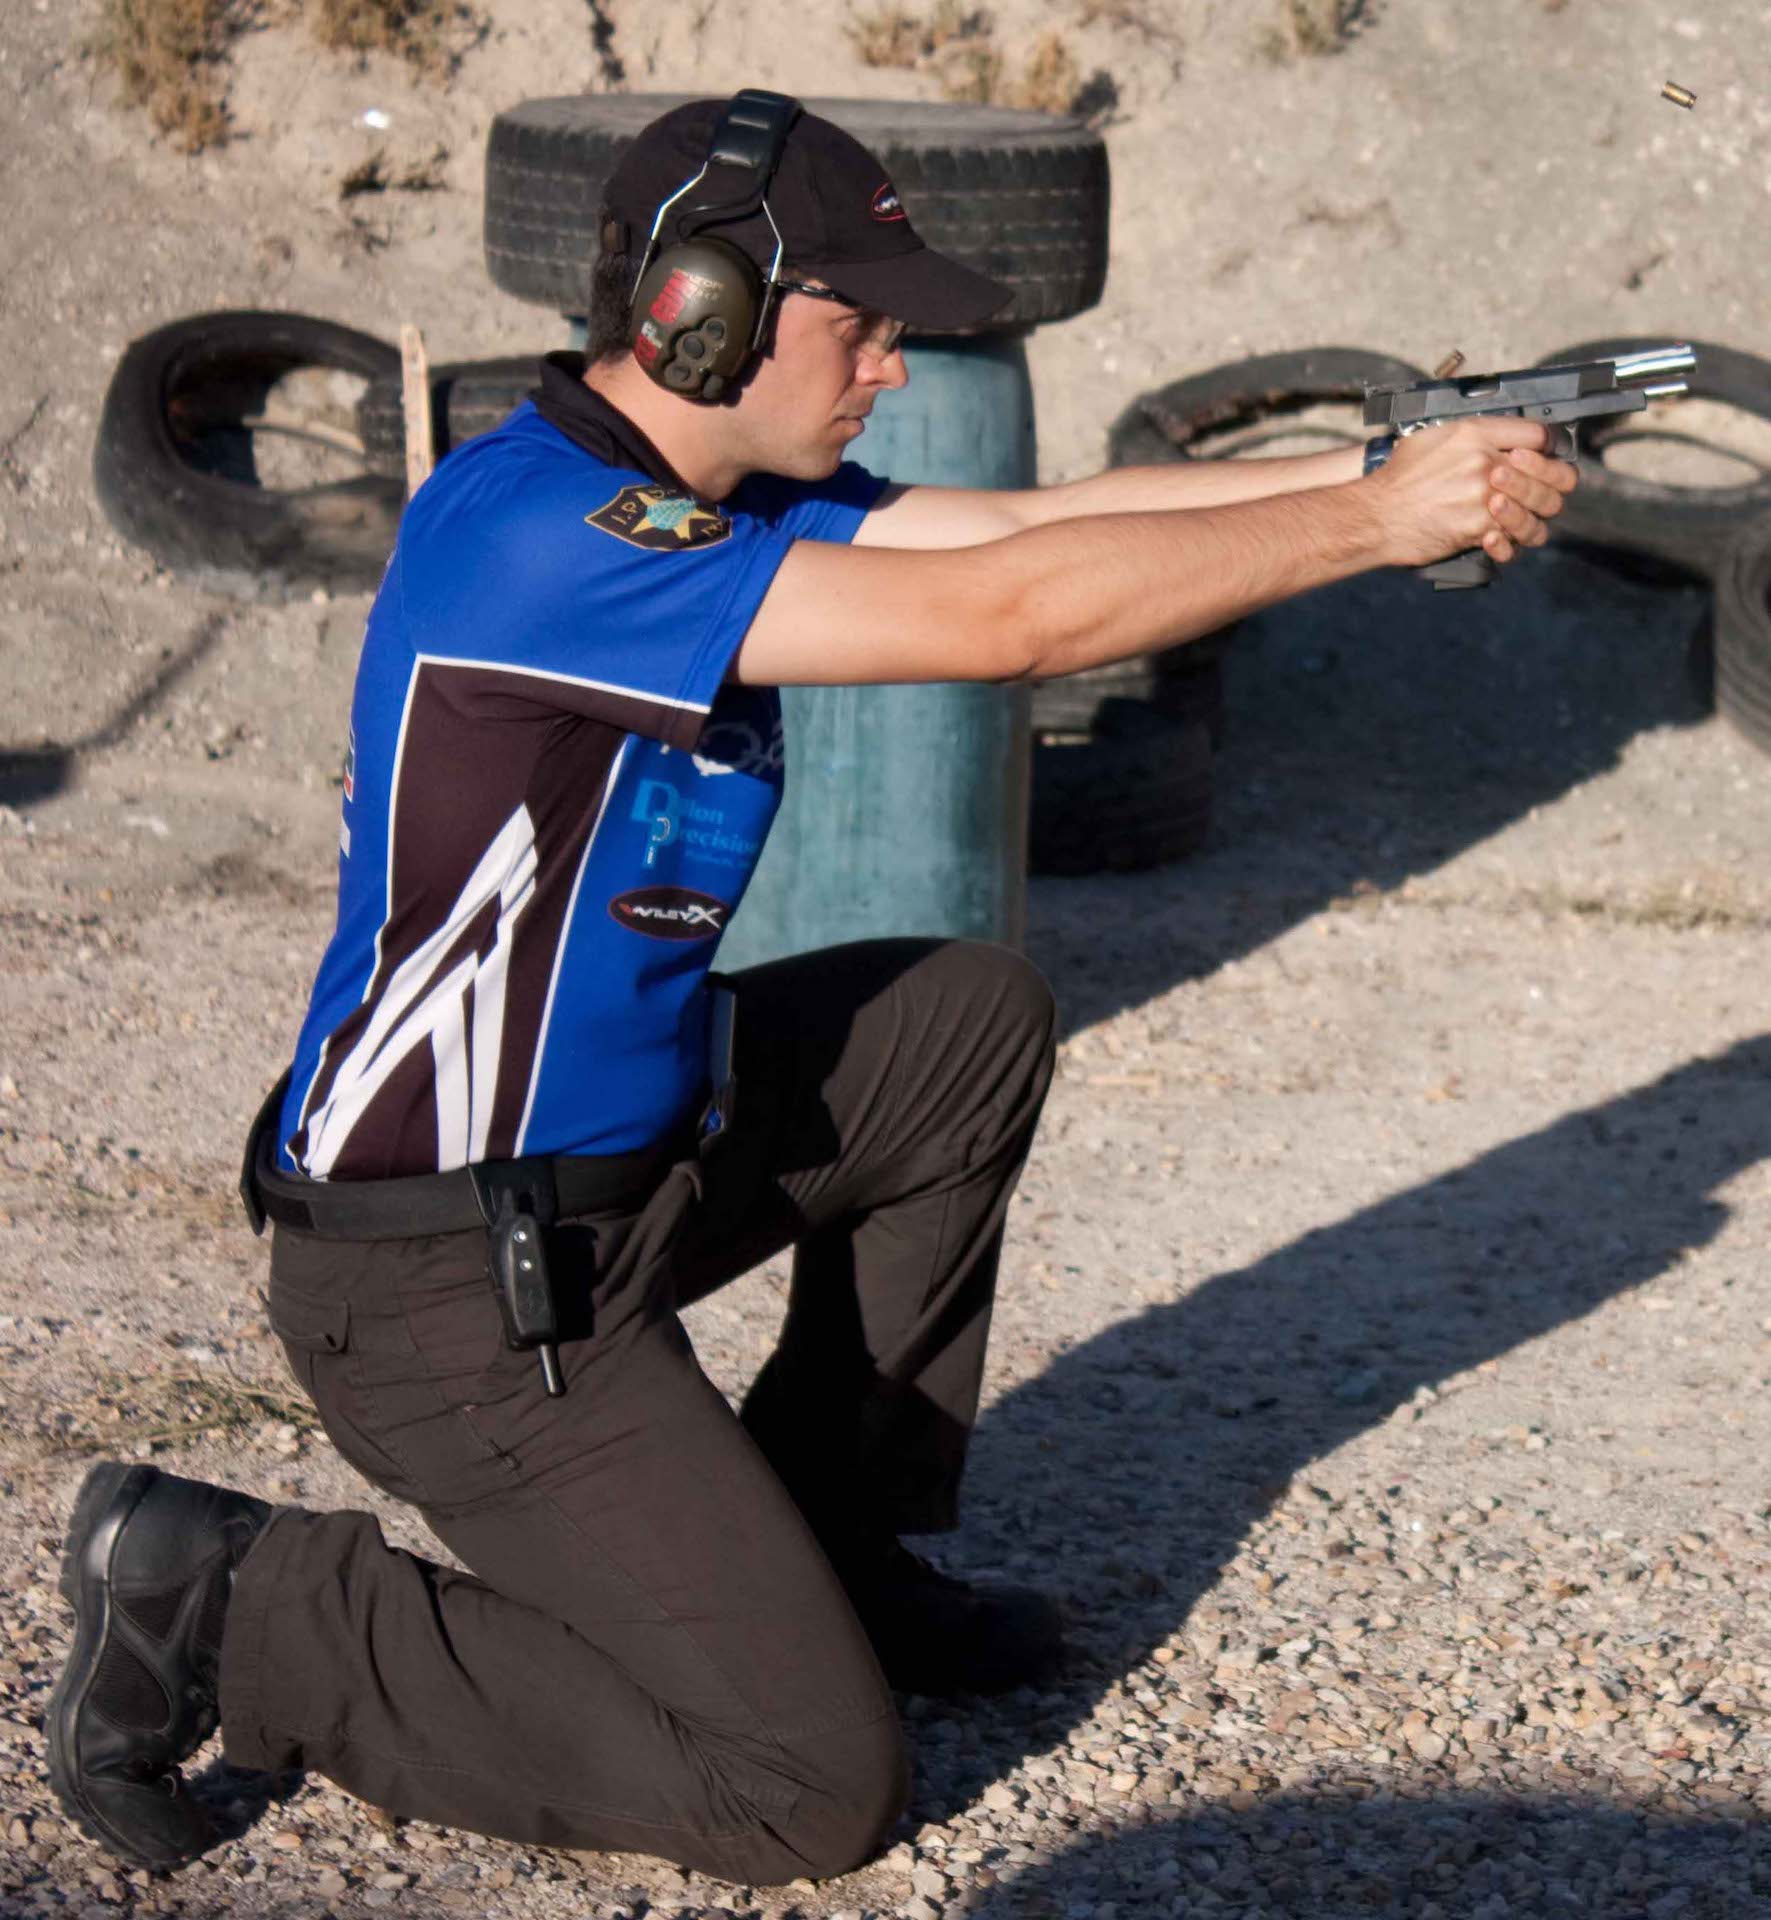pistol: (1360, 341, 1701, 595)
